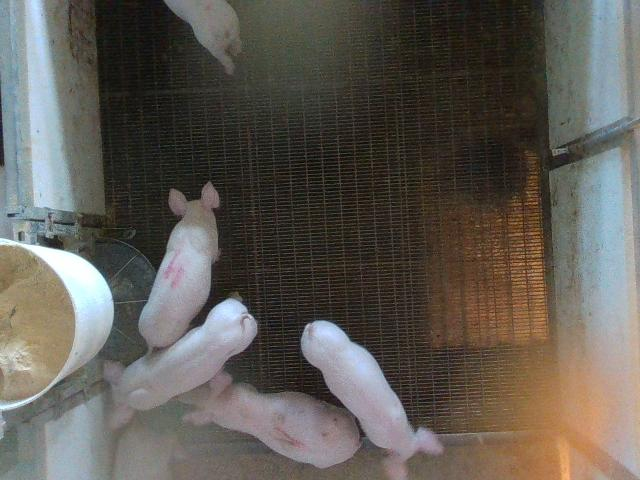pig-4: (139, 182, 219, 348)
